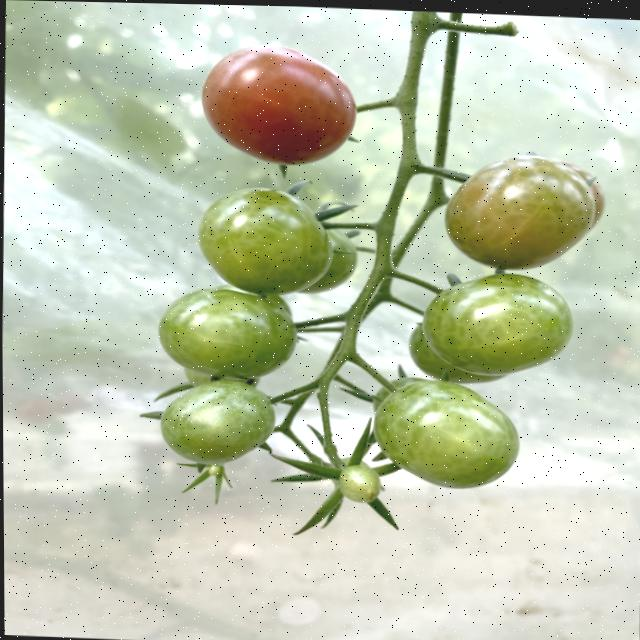ripe0: (445, 149, 608, 277), (373, 375, 524, 493), (419, 267, 575, 379), (196, 182, 334, 295), (152, 286, 297, 379), (156, 377, 277, 471)
ripe2: (199, 37, 361, 171)
